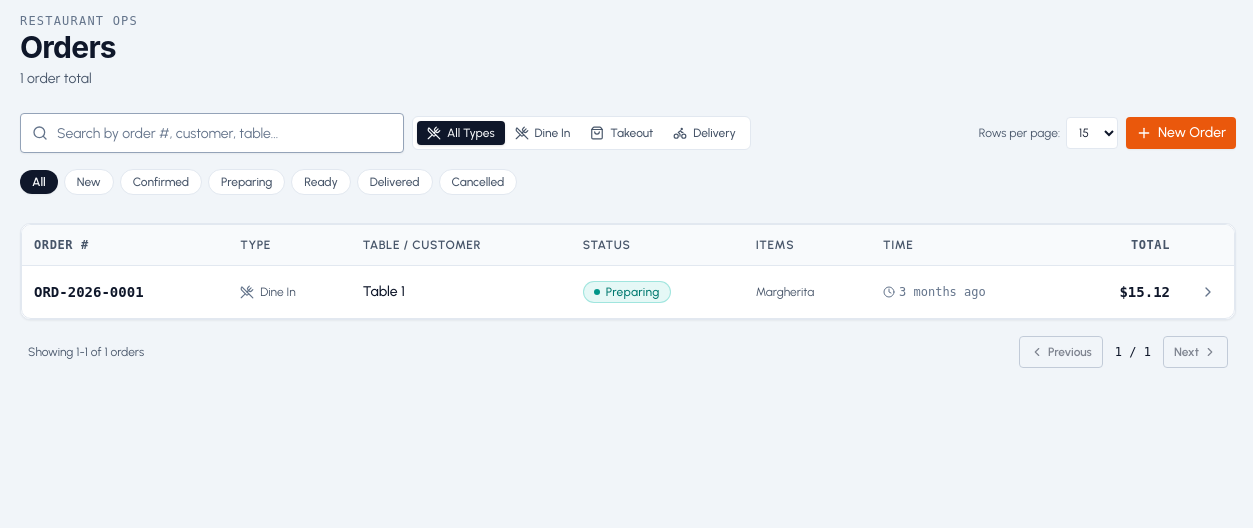
Test case: OrderListPage › filters orders by search query
Expected: the link "ORD-2026-0001" is shown, [34,284,144,300]
In the field labelled "Search by order #, customer, table...": (212, 133) [20,113,404,153], type "NON_EXISTENT_ORDER"
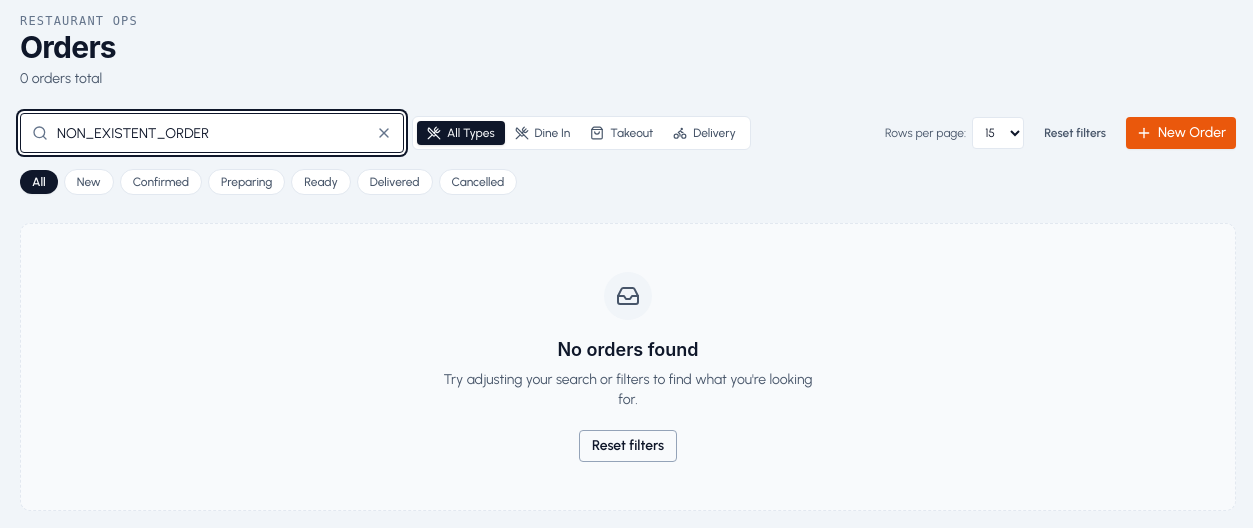
Expected: the link "ORD-2026-0001" is gone
Expected: the heading "No orders found" is shown, [557,336,698,364]
